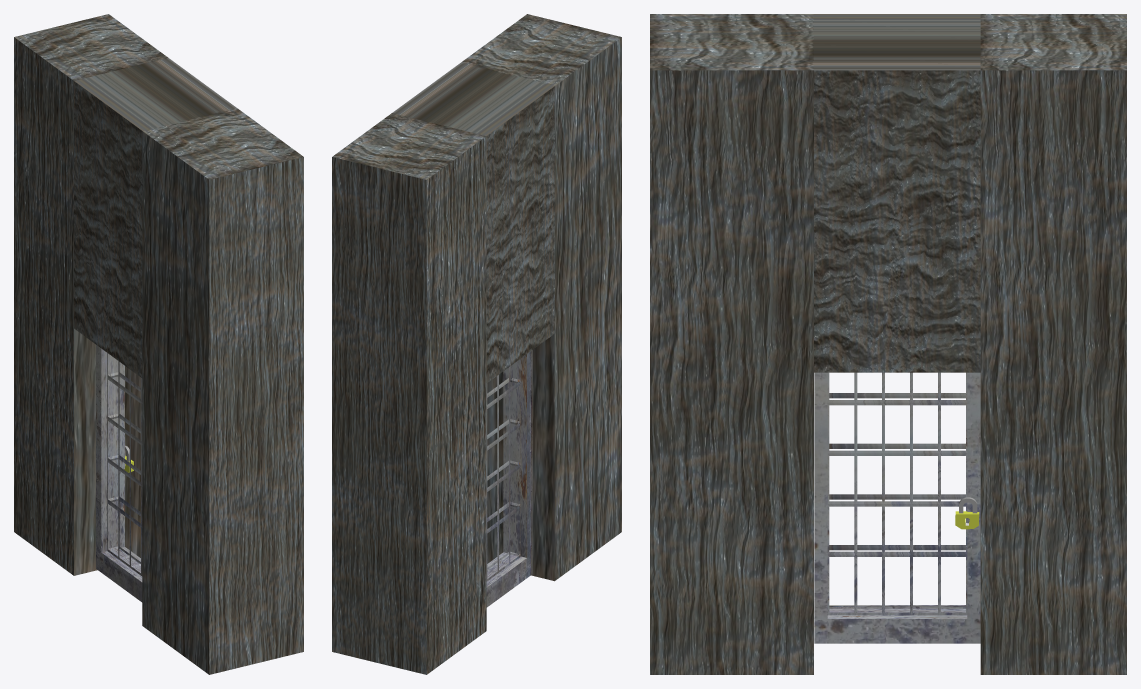
Rendered from pintu.glb.
3 renders of one model, left to right at view 1: azimuth 30°, elevation 25°; view 2: azimuth 150°, elevation 25°; view 3: azimuth 270°, elevation 25°, orthographic. The views are drawn at different scales.
Visible parts, largest first — view 1: Dinding.001, pintu, jaring-jaring.001; view 2: Dinding.001, pintu, jaring-jaring.001; view 3: Dinding.001, pintu, jaring-jaring.001.
Boxes of the visible parts, x1=… form: Dinding.001: x1=14, y1=14, x2=303, y2=674; pintu: x1=96, y1=345, x2=142, y2=602; jaring-jaring.001: x1=107, y1=353, x2=142, y2=576; Dinding.001: x1=332, y1=14, x2=621, y2=674; pintu: x1=486, y1=350, x2=532, y2=607; jaring-jaring.001: x1=486, y1=359, x2=521, y2=581; Dinding.001: x1=650, y1=14, x2=1126, y2=674; pintu: x1=814, y1=372, x2=980, y2=643; jaring-jaring.001: x1=827, y1=372, x2=967, y2=615.
Bounding box in the file's own units: 0.5792 × 2.9 × 2.07.
12 materials, 3 textured.
